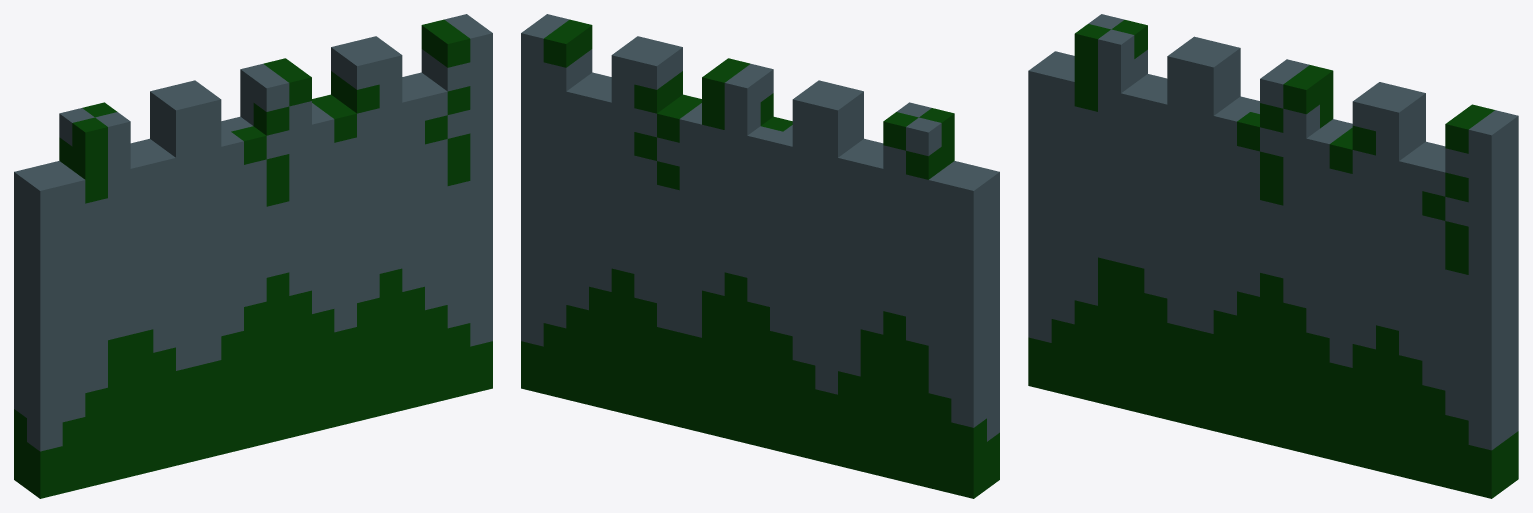
Rendered from Wall2.obj.
3 views of the same model, side by side, from view 1: azimuth 30°, elevation 25°; view 2: azimuth 150°, elevation 25°; view 3: azimuth 330°, elevation 25° (orthographic). The views are drawn at different scales.
Size of the model in its own units: 2 by 1.5 by 0.2.
Materials: 1 (1 with a texture image).
